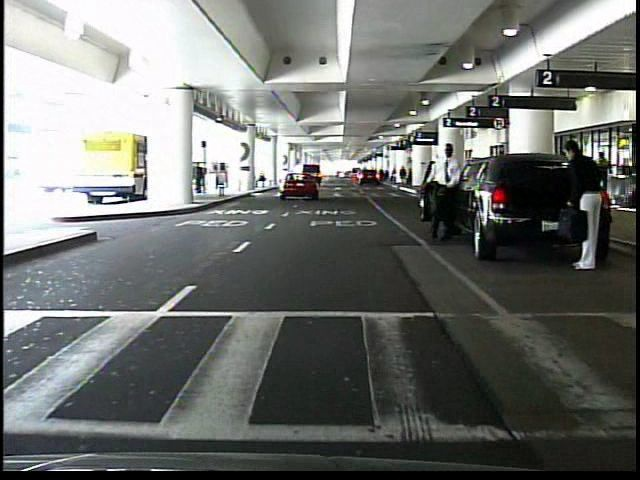person: (553, 137, 602, 271), (424, 142, 454, 240), (194, 160, 207, 196), (399, 165, 410, 189)
